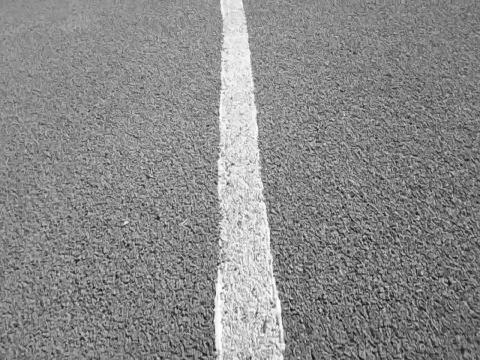Lines: (217, 0, 286, 360)
